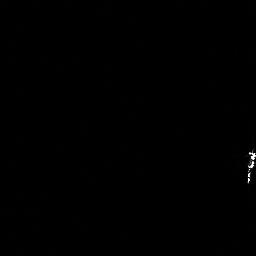ship: (246, 151, 256, 184)
